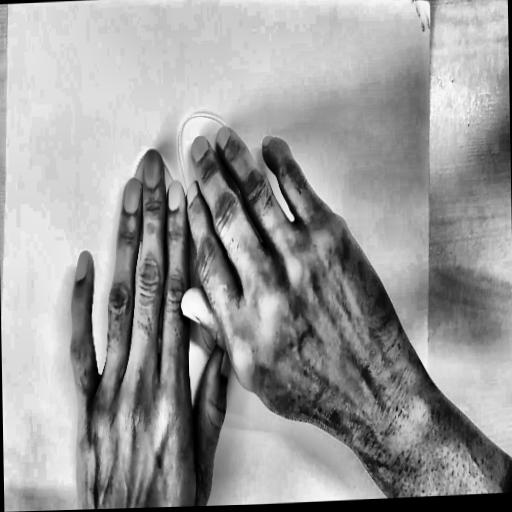flower: (112, 104, 287, 512)
top_right: (426, 0, 435, 11)
